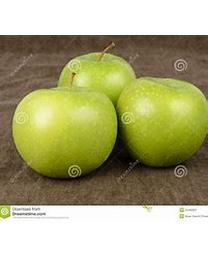apple: (12, 73, 118, 180), (118, 75, 207, 167), (58, 42, 137, 108)
